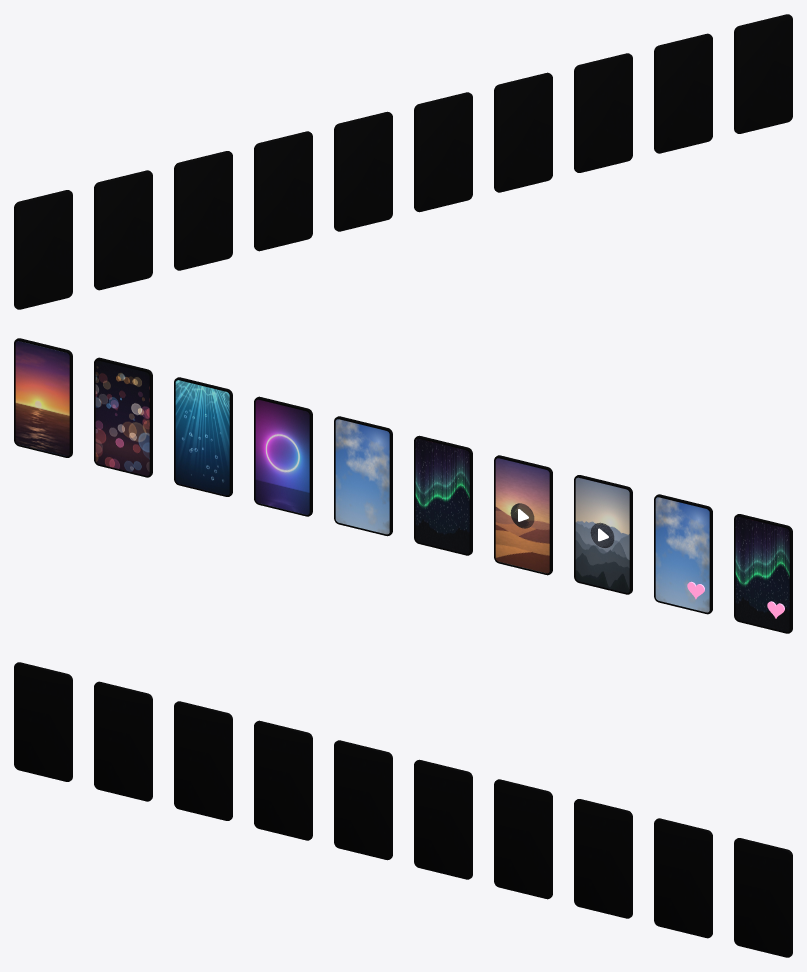
The model's file is feed_tile.glb.
3 renders of one model, top to bottom at view 1: azimuth 30°, elevation 25°; view 2: azimuth 150°, elevation 25°; view 3: azimuth 330°, elevation 25°, orthographic.
Parts seen in each view (by area): view 1: Tile_Heart_0, Tile_Screen_1, Tile_Play_0, Tile_Screen_3, Tile_Screen_4, Tile_Screen_5, Tile_Heart_1, Tile_Play_1, Tile_Screen_0, Tile_Screen_2; view 2: Tile_Heart_0, Tile_Screen_1, Tile_Play_0, Tile_Screen_3, Tile_Screen_4, Tile_Screen_5, Tile_Heart_1, Tile_Play_1, Tile_Screen_0, Tile_Screen_2; view 3: Tile_Heart_0, Tile_Screen_1, Tile_Play_0, Tile_Screen_3, Tile_Screen_4, Tile_Screen_5, Tile_Heart_1, Tile_Play_1, Tile_Screen_0, Tile_Screen_2.
Part boxes in pixels (x1,y1,x2,y2): Tile_Heart_0: (94, 170, 152, 290); Tile_Screen_1: (654, 33, 712, 153); Tile_Play_0: (254, 131, 312, 251); Tile_Screen_3: (494, 72, 552, 192); Tile_Screen_4: (414, 92, 472, 212); Tile_Screen_5: (334, 111, 392, 231); Tile_Heart_1: (14, 190, 72, 309); Tile_Play_1: (174, 151, 232, 270); Tile_Screen_0: (734, 14, 792, 133); Tile_Screen_2: (574, 53, 632, 172); Tile_Heart_0: (654, 494, 712, 614); Tile_Screen_1: (94, 357, 152, 477); Tile_Play_0: (494, 455, 552, 575); Tile_Screen_3: (254, 396, 312, 516); Tile_Screen_4: (334, 416, 392, 536); Tile_Screen_5: (414, 435, 472, 555); Tile_Heart_1: (734, 514, 792, 633); Tile_Play_1: (574, 475, 632, 594); Tile_Screen_0: (14, 338, 72, 457); Tile_Screen_2: (174, 377, 232, 496); Tile_Heart_0: (94, 681, 152, 801); Tile_Screen_1: (654, 818, 712, 938); Tile_Play_0: (254, 720, 312, 840); Tile_Screen_3: (494, 779, 552, 899); Tile_Screen_4: (414, 759, 472, 879); Tile_Screen_5: (334, 740, 392, 860); Tile_Heart_1: (14, 662, 72, 781); Tile_Play_1: (174, 701, 232, 820); Tile_Screen_0: (734, 838, 792, 957); Tile_Screen_2: (574, 799, 632, 918).
Bounding box in the file's own units: 14.58 × 1.92 × 0.084.
5 materials, 2 textured.
